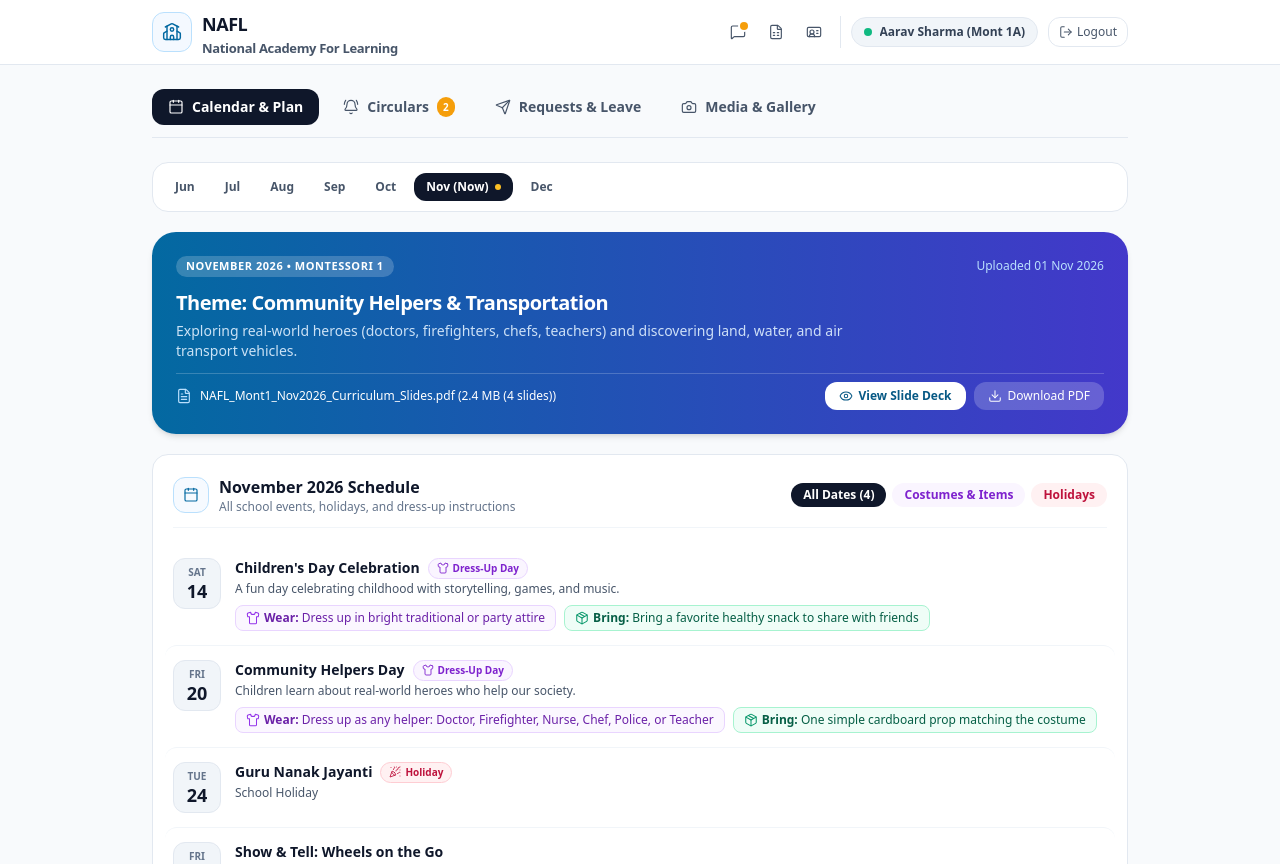
Scenario: Suite L: Admin Assistant & Registrar Operations (Annual Mapping & In-Year Admin) › enables 1-tap Admin Office login and defaults directly into the Admin Desk
Note: Sign out from default session
Click the button titled "Sign Out" at (1088, 32), box [1048, 17, 1128, 47]
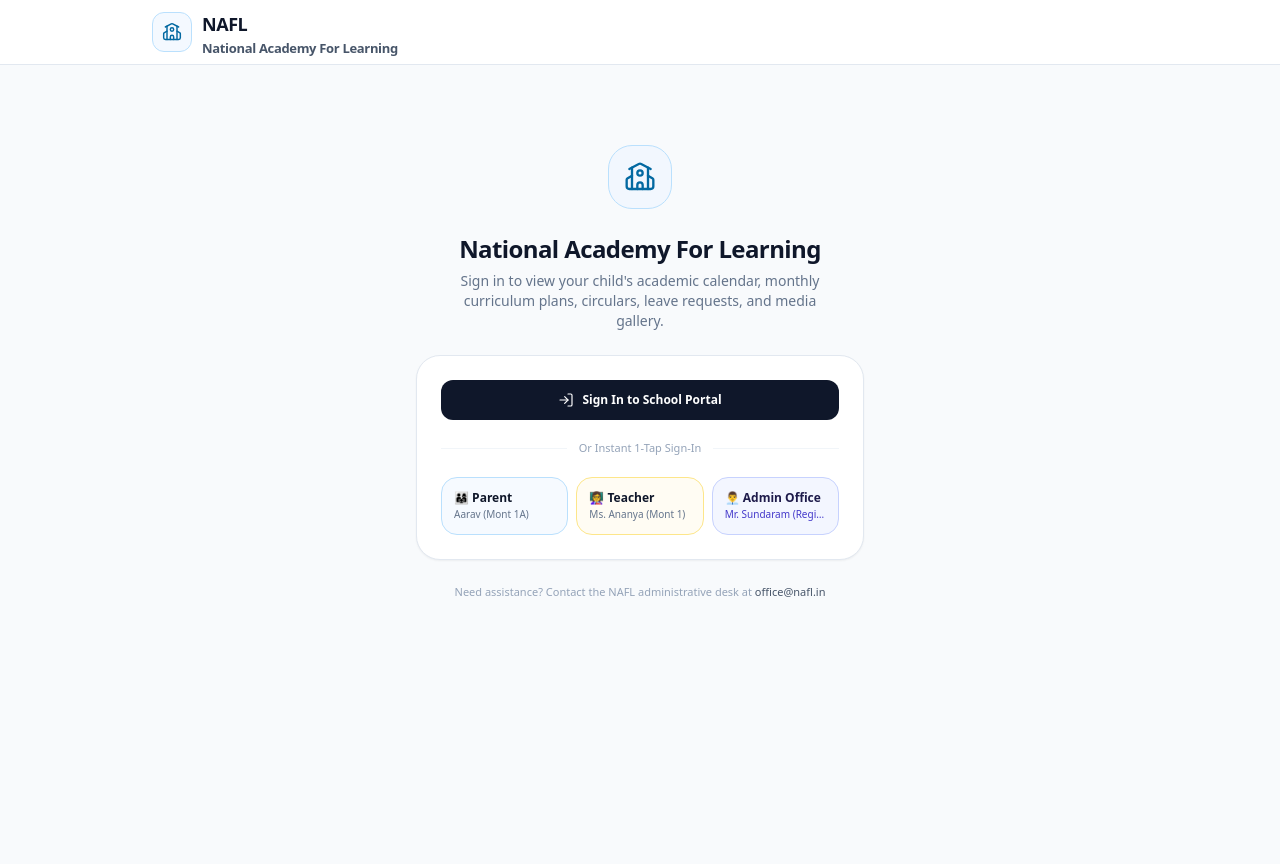
Note: Sign in using 1-tap Admin Office button
Click the text "👨‍💼 Admin Office" at (775, 498), box [725, 490, 826, 506]
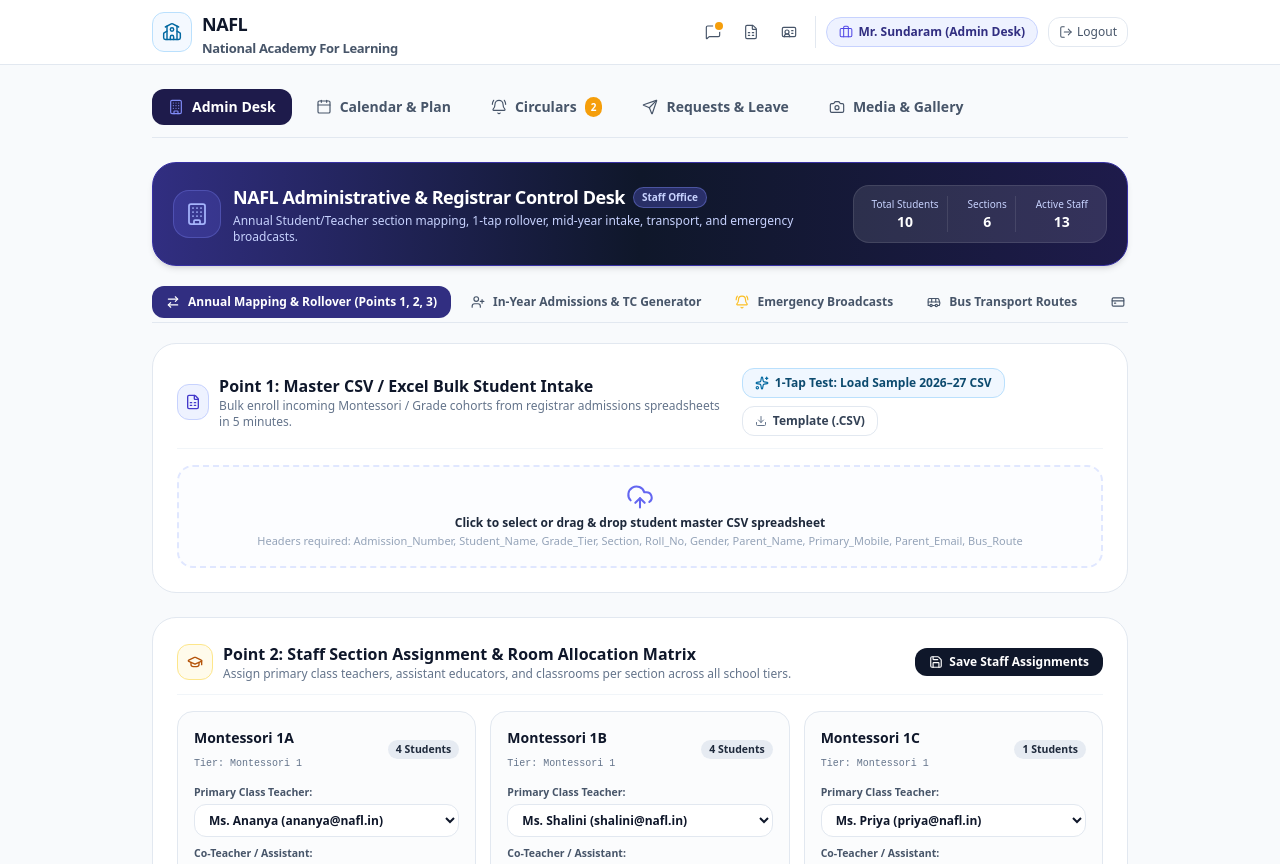
Now the text "Mr. Sundaram (Admin Desk)" is shown, box [858, 24, 1025, 40]
Now the heading "NAFL Administrative & Registrar Control Desk" is shown, box [233, 183, 625, 211]
Now the text "Staff Office" is shown, box [633, 186, 707, 208]
